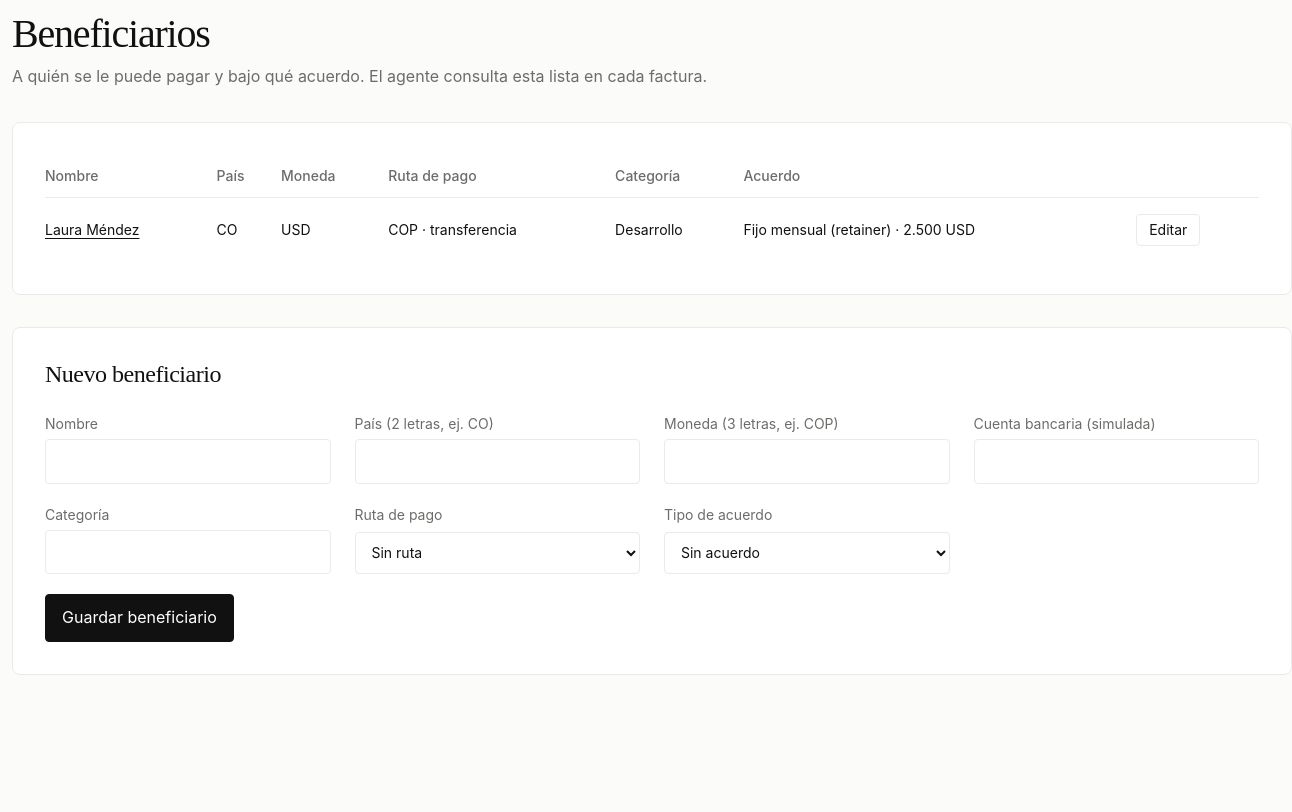
Editar loads a row into the form, keeps a route outside the list, and saves with PUT (AC-33)
Click the button with aria-label "Editar Laura Méndez" at (1168, 230), box [1136,214,1200,246]
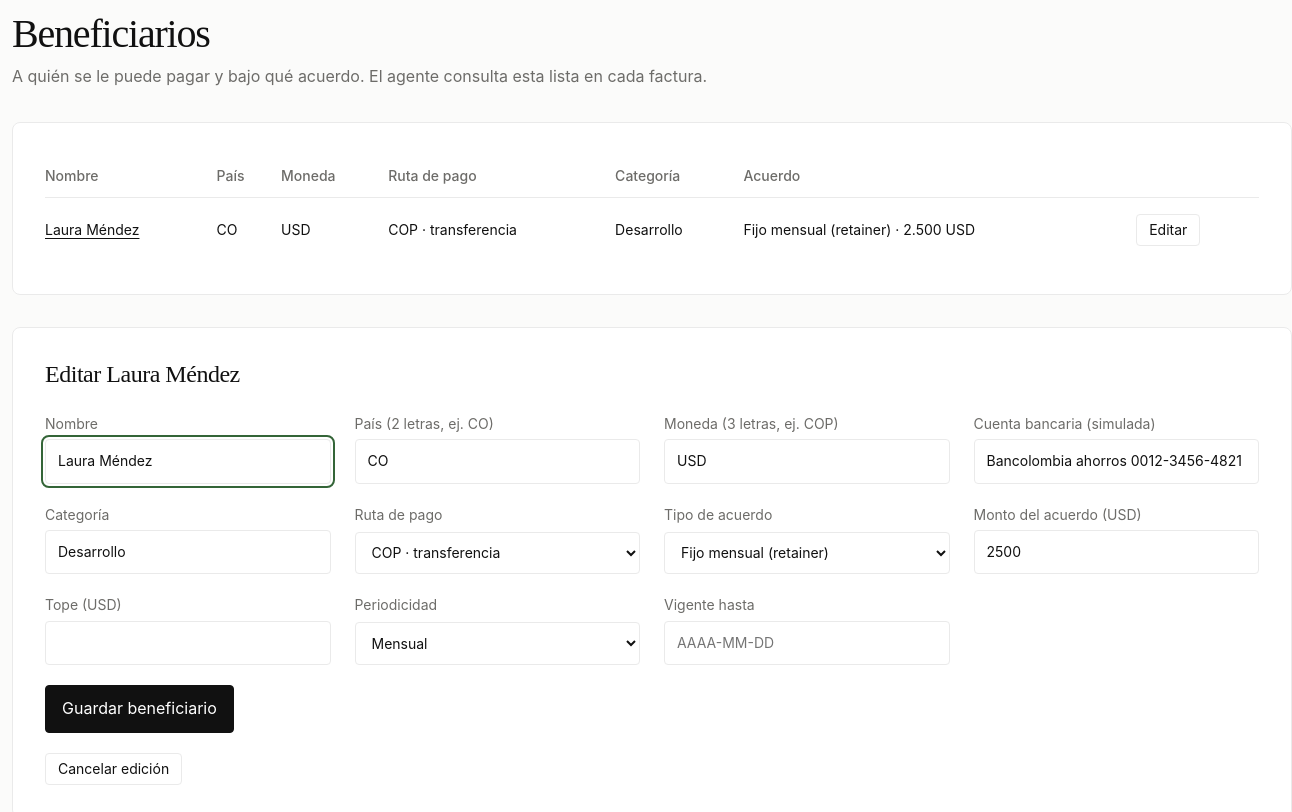
Check: the field labelled "Nombre" holds "Laura Méndez", box [45,439,330,484]
Check: the dropdown labelled "Ruta de pago" shows "COP · transferencia", box [354,532,640,574]
Replace the text in the number field labelled "Monto del acuerdo (USD)" with "2600" at (1116, 552), box [974,530,1259,574]
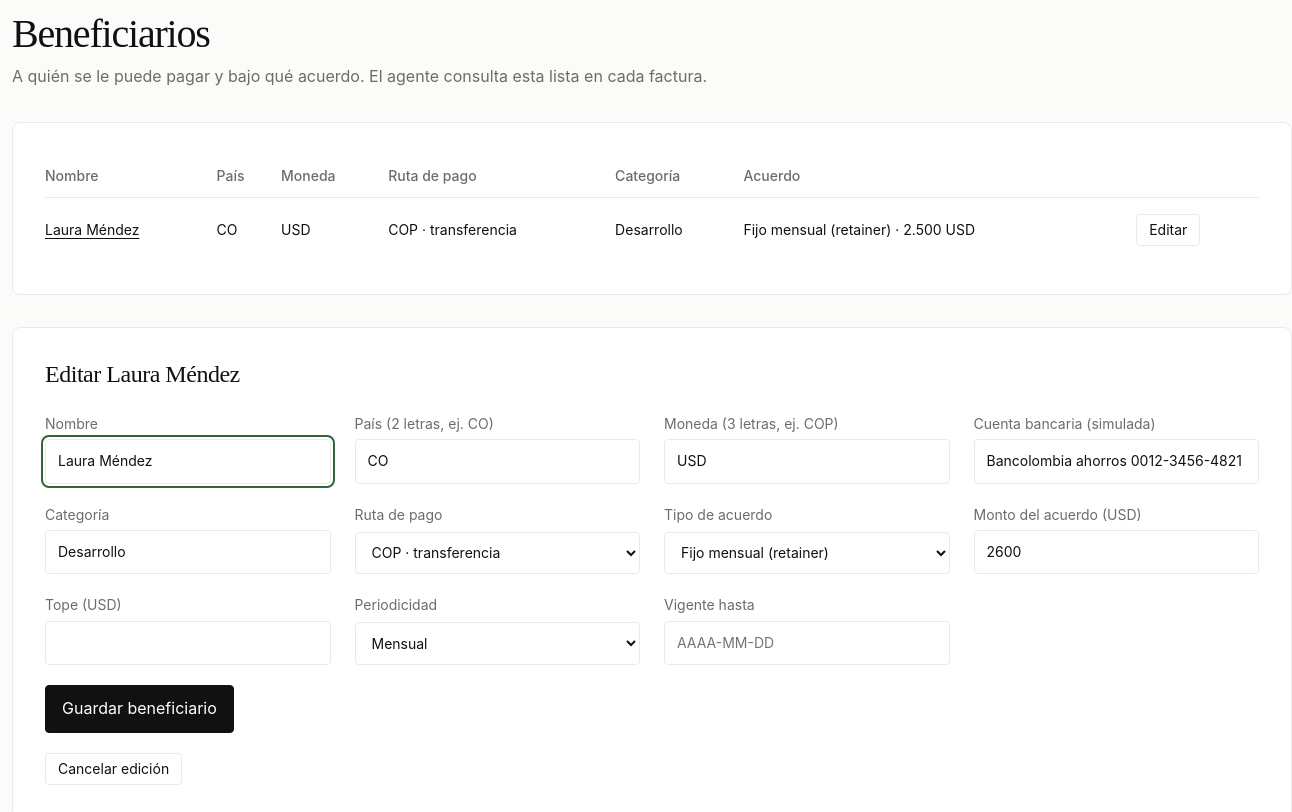
Click the button "Guardar beneficiario" at (139, 709), box [45,685,234,733]
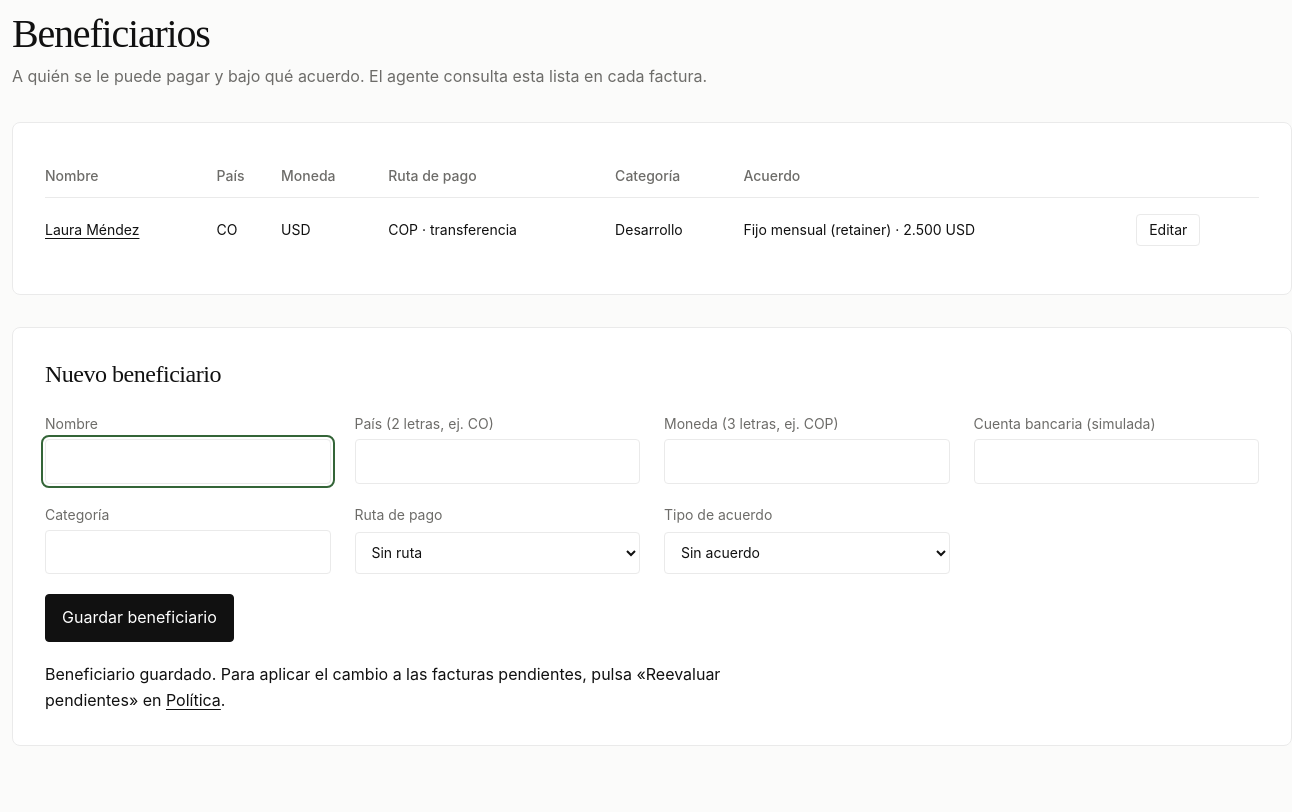
Check: the text "Beneficiario guardado" is shown, box [45,664,720,710]
